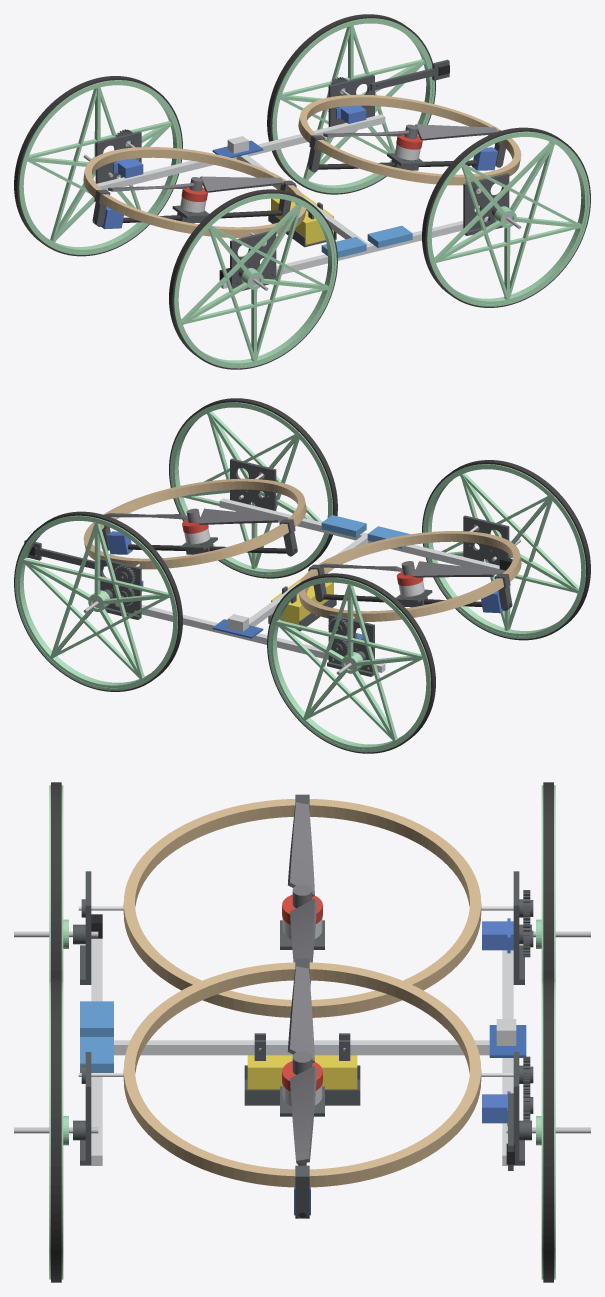
The model's file is wall_climber_full.glb.
3 renders of one model, top to bottom at view 1: azimuth 30°, elevation 25°; view 2: azimuth 150°, elevation 25°; view 3: azimuth 270°, elevation 25°, orthographic. The views are drawn at different scales.
Visible parts, largest first — view 1: wheel_FR, wheel_RR, wheel_RL, wheel_FL, hoop_F, hoop_R, rail.001, tire_RR, tire_FR, tire_RL, tire_FL, prop_R (+14 smaller); view 2: wheel_RL, wheel_FL, wheel_RR, wheel_FR, hoop_R, hoop_F, rail.002, tire_RL, tire_FL, tire_RR, tire_FR, prop_F (+12 smaller); view 3: hoop_F, hoop_R, beam.001, prop_F, prop_R, tire_FL, tire_FR, 3S 1500 mAh LiPo, tire_RL, tire_RR, tray.001, rail.002 (+15 smaller).
Boxes of the visible parts, <box> form: wheel_FR: <box>427,131,589,306</box>; wheel_RR: <box>174,193,336,368</box>; wheel_RL: <box>19,80,181,254</box>; wheel_FL: <box>272,18,434,193</box>; hoop_F: <box>298,94,521,185</box>; hoop_R: <box>83,147,306,237</box>; rail.001: <box>97,114,385,190</box>; tire_RR: <box>169,189,337,369</box>; tire_FR: <box>422,127,590,307</box>; tire_RL: <box>14,76,182,256</box>; tire_FL: <box>267,14,435,194</box>; prop_R: <box>108,176,284,192</box>; wheel_RL: <box>268,577,430,752</box>; wheel_FL: <box>15,515,177,690</box>; wheel_RR: <box>423,464,585,638</box>; wheel_FR: <box>170,402,332,577</box>; hoop_R: <box>298,531,521,621</box>; hoop_F: <box>83,478,306,569</box>; rail.002: <box>219,498,505,574</box>; tire_RL: <box>267,573,435,753</box>; tire_FL: <box>14,511,182,691</box>; tire_RR: <box>422,460,590,640</box>; tire_FR: <box>169,398,337,578</box>; prop_F: <box>105,508,281,524</box>; hoop_F: <box>123,962,481,1187</box>; hoop_R: <box>123,799,481,1017</box>; beam.001: <box>114,1040,489,1055</box>; prop_F: <box>287,966,317,1164</box>; prop_R: <box>288,802,317,986</box>; tire_FL: <box>543,978,553,1282</box>; tire_FR: <box>51,978,61,1282</box>; 3S 1500 mAh LiPo: <box>247,1055,357,1089</box>; tire_RL: <box>543,782,553,978</box>; tire_RR: <box>51,782,61,978</box>; tray.001: <box>244,1033,360,1105</box>; rail.002: <box>91,938,102,1165</box>.
Size of the model in its own units: 0.549 by 0.216 by 0.41.
